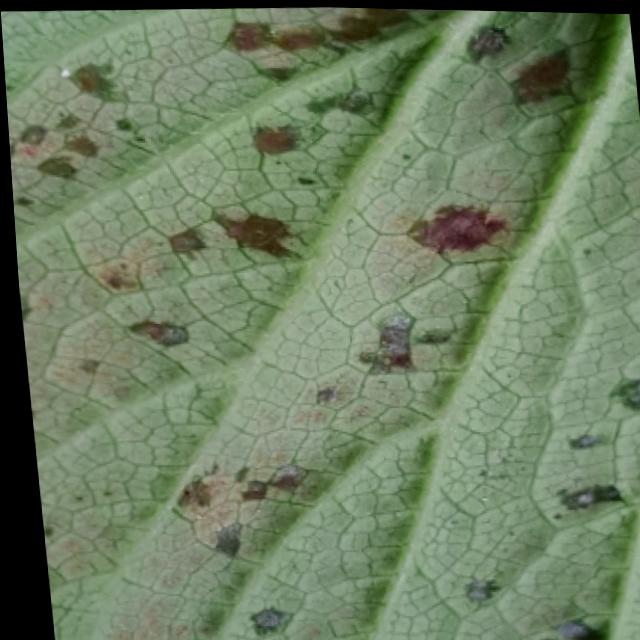Angular Leafspot: (1, 5, 640, 640)
